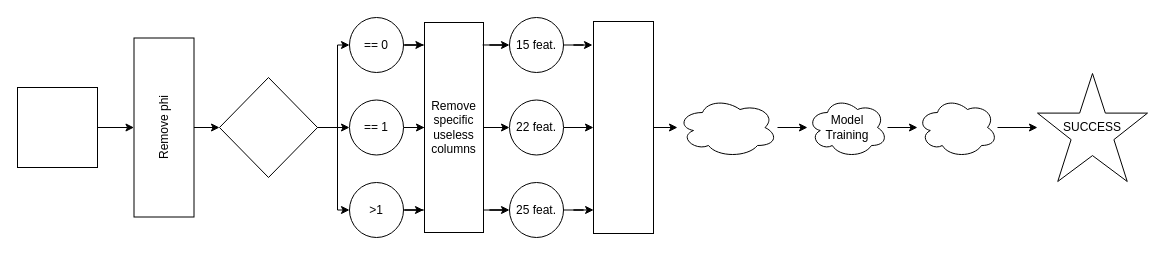
This 1165x255 diagram has some shape labels left out. The shapes that lost their labels are listed below. From the top down, each one's box as (x1, y1, x2, y2) in pixels, then its label:
(16, 86, 98, 168): original data
(218, 76, 318, 178): Split jet_num
(592, 20, 654, 234): Replace -999
(676, 96, 778, 158): Features engineering
(916, 96, 998, 158): Prediction
